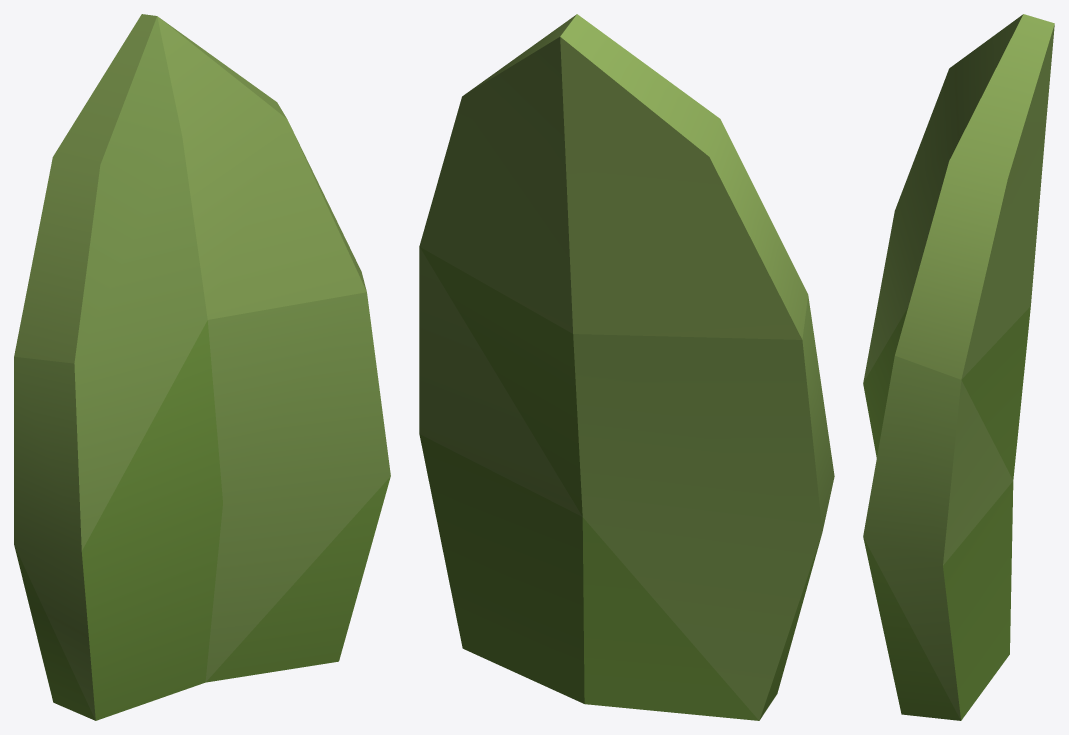
The model's file is itch_kaykit_forest_grass_1_a_color1.glb.
The picture shows the model from 3 angles, left to right: view 1: azimuth 30°, elevation 25°; view 2: azimuth 150°, elevation 25°; view 3: azimuth 270°, elevation 25°; orthographic projection. The views are drawn at different scales.
Visible parts, largest first — view 1: Grass_1_A_Color1; view 2: Grass_1_A_Color1; view 3: Grass_1_A_Color1.
Part boxes in pixels (left/top/right/bottom): Grass_1_A_Color1: left=14, top=14, right=390, bottom=720; Grass_1_A_Color1: left=419, top=14, right=834, bottom=720; Grass_1_A_Color1: left=863, top=14, right=1054, bottom=720.
Size of the model in its own units: 0.96 by 1.58 by 0.4295.
